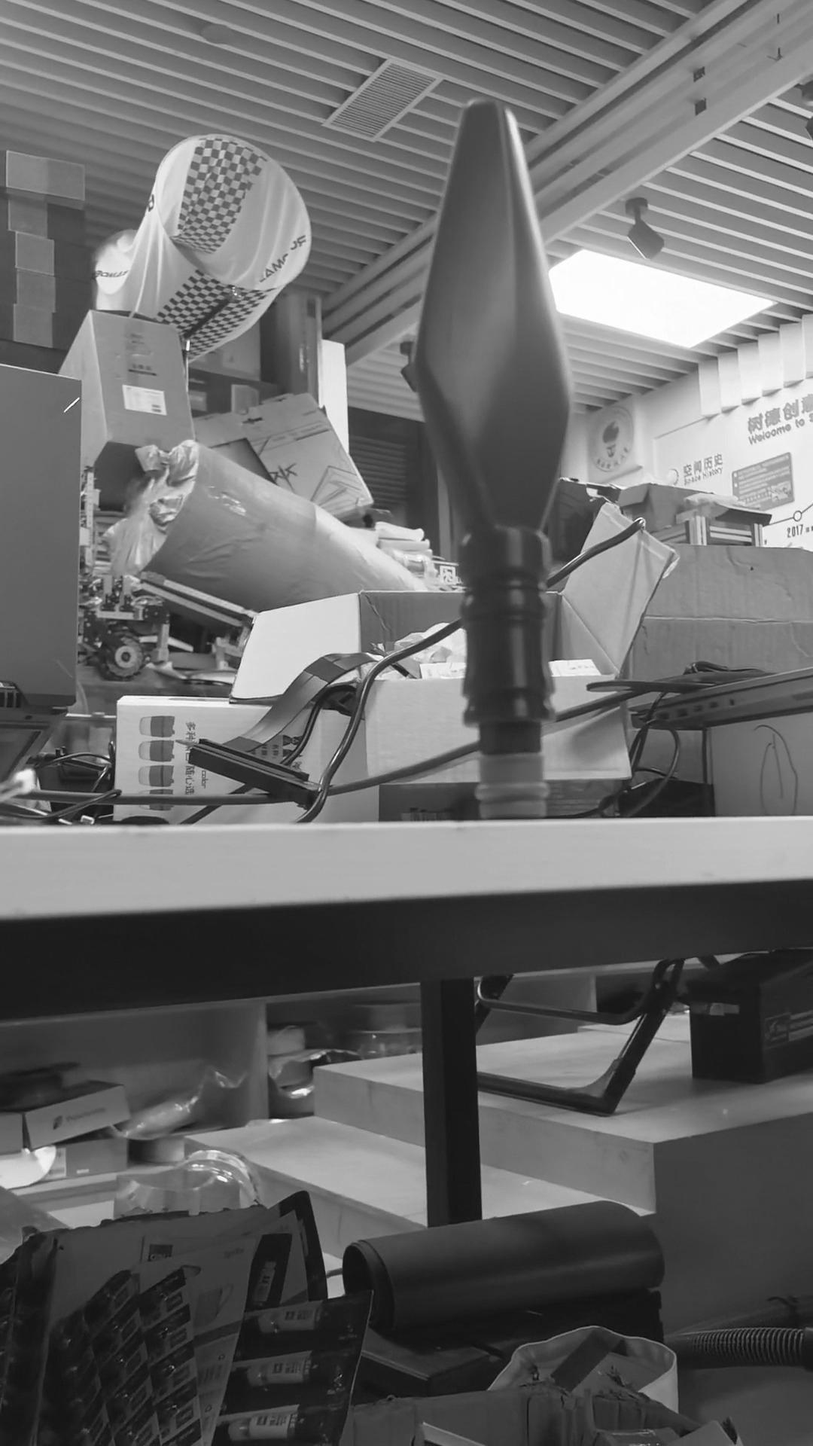base: (467, 741, 551, 832)
